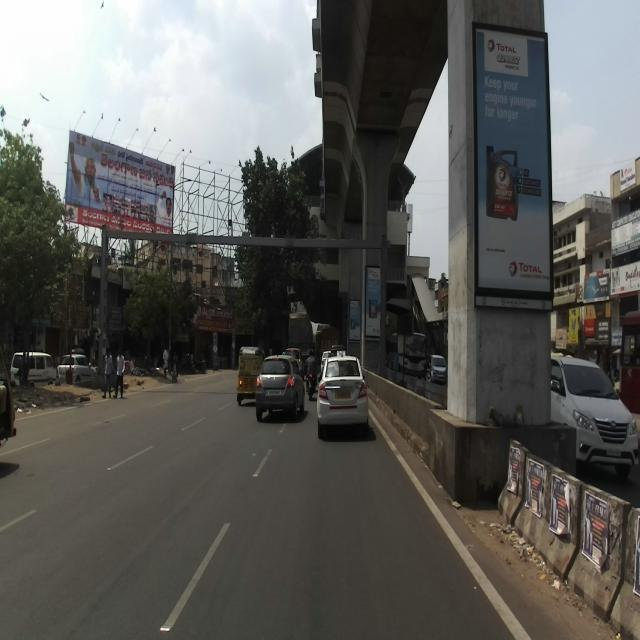Car_Maruti-Suzuki: (316, 356, 372, 434), (255, 352, 306, 419)
Car_Toyota: (550, 354, 638, 480)
motorcycle_bajaj: (305, 358, 317, 401)
